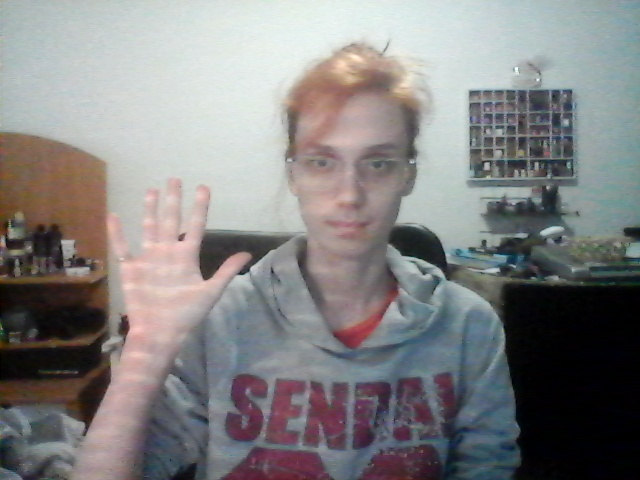ahoj: (94, 172, 256, 344)
